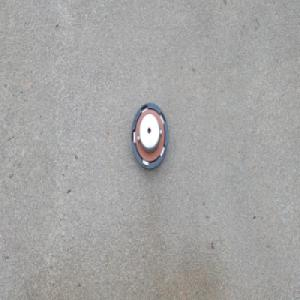FuelCap: (129, 100, 169, 171)
